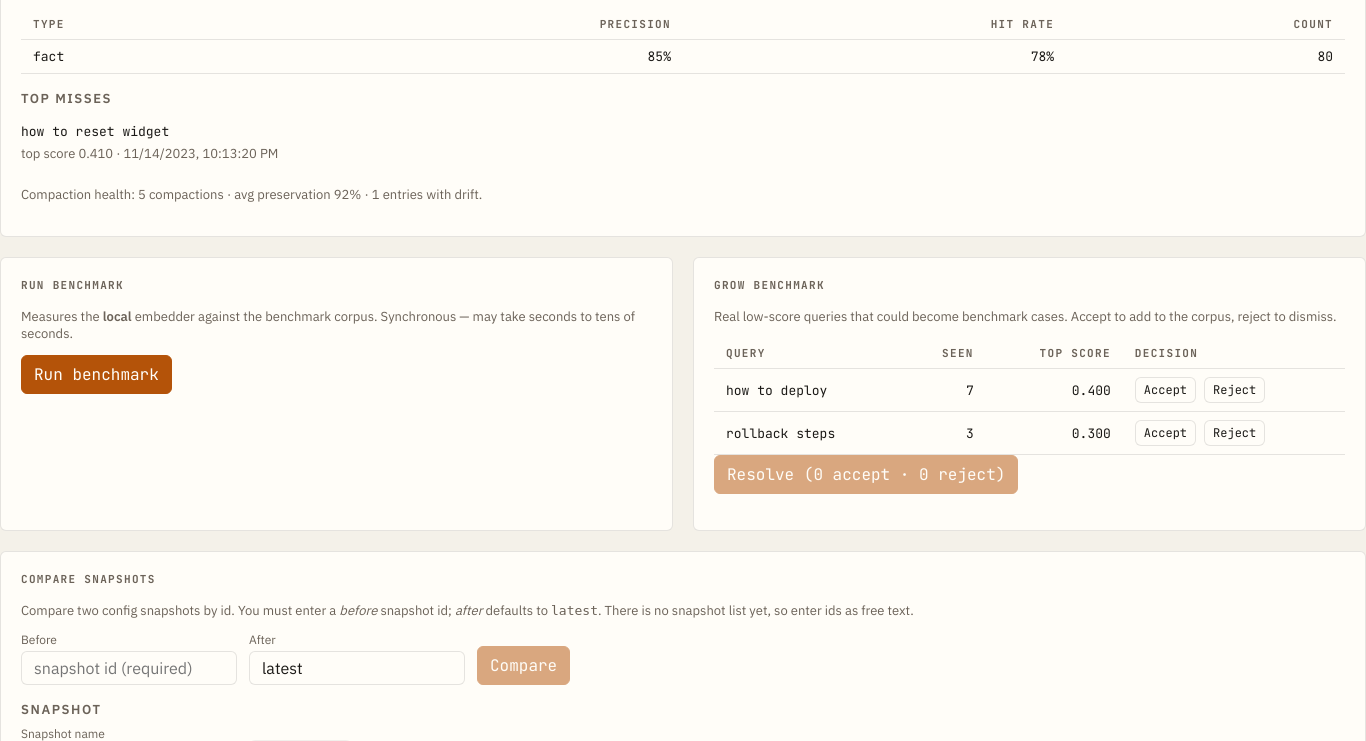
Test: Eval page › benchmark: shows OperationProgress with elapsed time while eval_benchmark is in-flight
(page scrolled)
Click the button "Run benchmark". click: (96, 374)
box: [21,355,172,394]
Wait 3000 ms
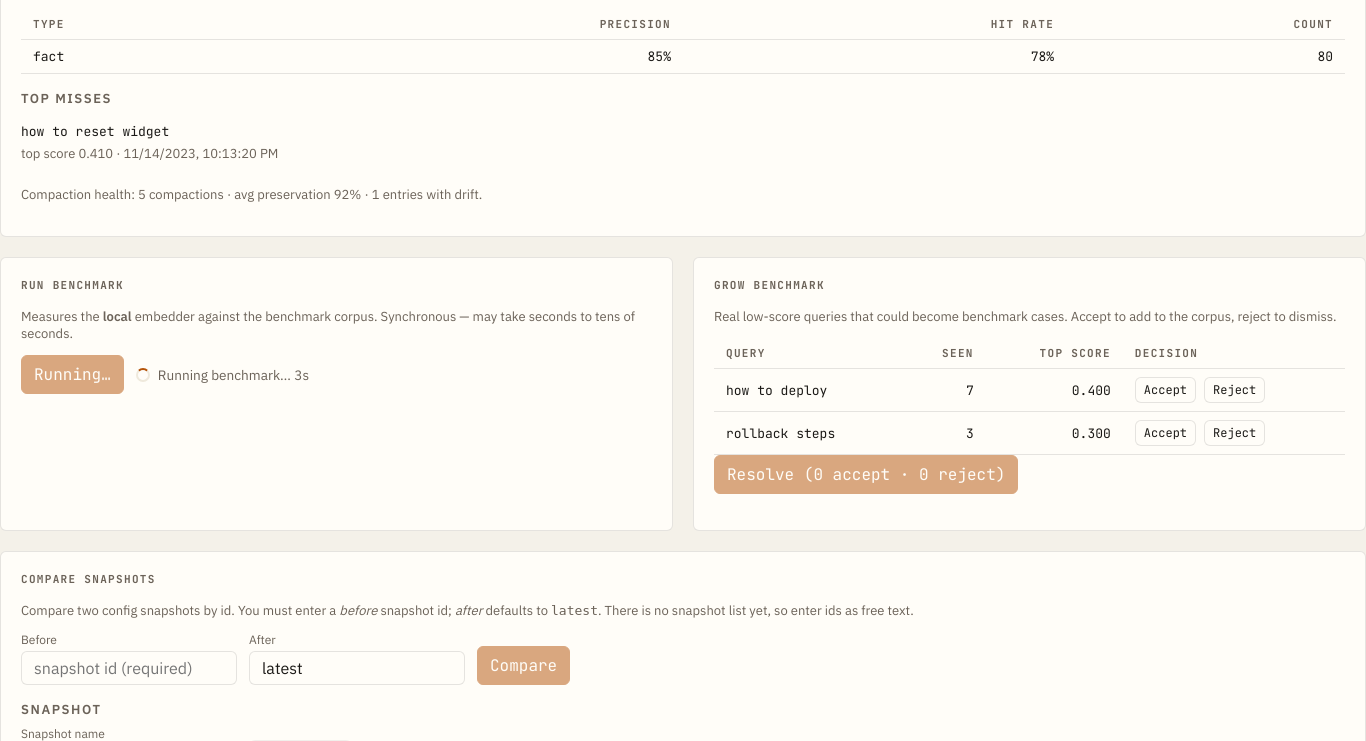
expect the text "Running benchmark… 3s" is shown: met, box [136,366,309,384]
